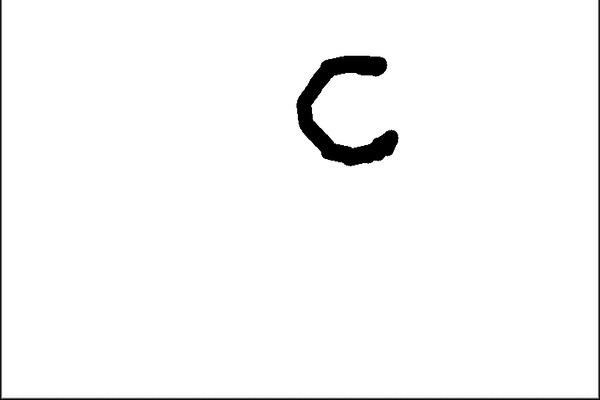C: (291, 49, 401, 168)
